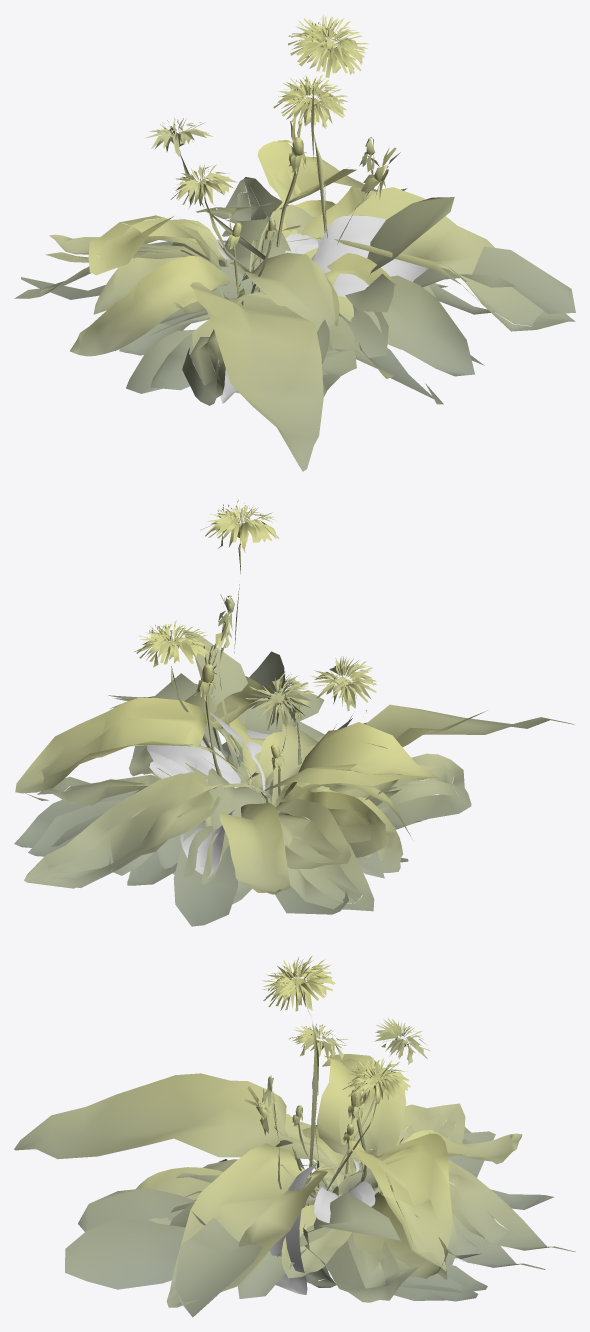
File: plants.glb
3 renders of one model, top to bottom at view 1: azimuth 30°, elevation 25°; view 2: azimuth 150°, elevation 25°; view 3: azimuth 270°, elevation 25°, orthographic. The views are drawn at different scales.
Visible parts, largest first — view 1: weed_0, dand_1, dand_0, dand_4, weed_1, weed_2, dand_2, dand_3, weed_3; view 2: weed_0, weed_1, dand_0, dand_1, dand_4, weed_2, weed_4, dand_2, dand_3, weed_3; view 3: weed_0, dand_0, weed_1, dand_1, dand_4, weed_2, dand_2, dand_3.
Boxes of the visible parts, x1,y1,x2,y2 form: weed_0: (14, 177, 575, 471); dand_1: (21, 74, 493, 404); dand_0: (139, 14, 575, 390); dand_4: (49, 186, 447, 378); weed_1: (45, 141, 407, 405); weed_2: (209, 215, 428, 403); dand_2: (119, 118, 329, 364); dand_3: (172, 222, 241, 319); weed_3: (115, 200, 335, 350); weed_0: (24, 676, 574, 911); weed_1: (15, 697, 471, 887); dand_0: (14, 500, 324, 926); dand_1: (28, 594, 420, 914); dand_4: (25, 710, 426, 894); weed_2: (147, 713, 419, 877); weed_4: (204, 782, 389, 857); dand_2: (127, 645, 408, 885); dand_3: (201, 744, 402, 904); weed_3: (241, 781, 402, 872); weed_0: (14, 1054, 575, 1307); dand_0: (65, 956, 553, 1317); weed_1: (185, 1103, 545, 1287); dand_1: (78, 1024, 495, 1298); dand_4: (136, 1125, 522, 1278); weed_2: (250, 1159, 454, 1294); dand_2: (292, 1070, 493, 1281); dand_3: (285, 1113, 378, 1191).
Bounding box in the file's own units: 0.239 × 0.1648 × 0.291.
